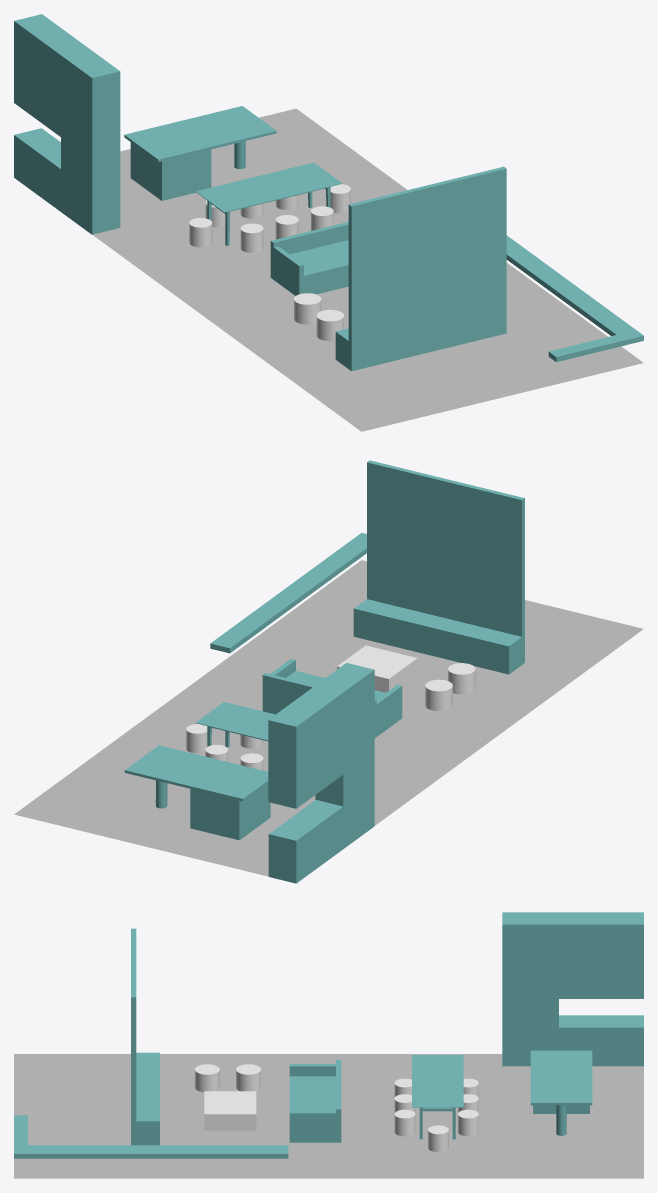
Rendered from Project 04_EW Residence.glb.
3 renders of one model, top to bottom at view 1: azimuth 30°, elevation 25°; view 2: azimuth 150°, elevation 25°; view 3: azimuth 270°, elevation 25°, orthographic. The views are drawn at different scales.
Bounding box in the file's own units: 0.4822 × 0.271 × 1.03.
